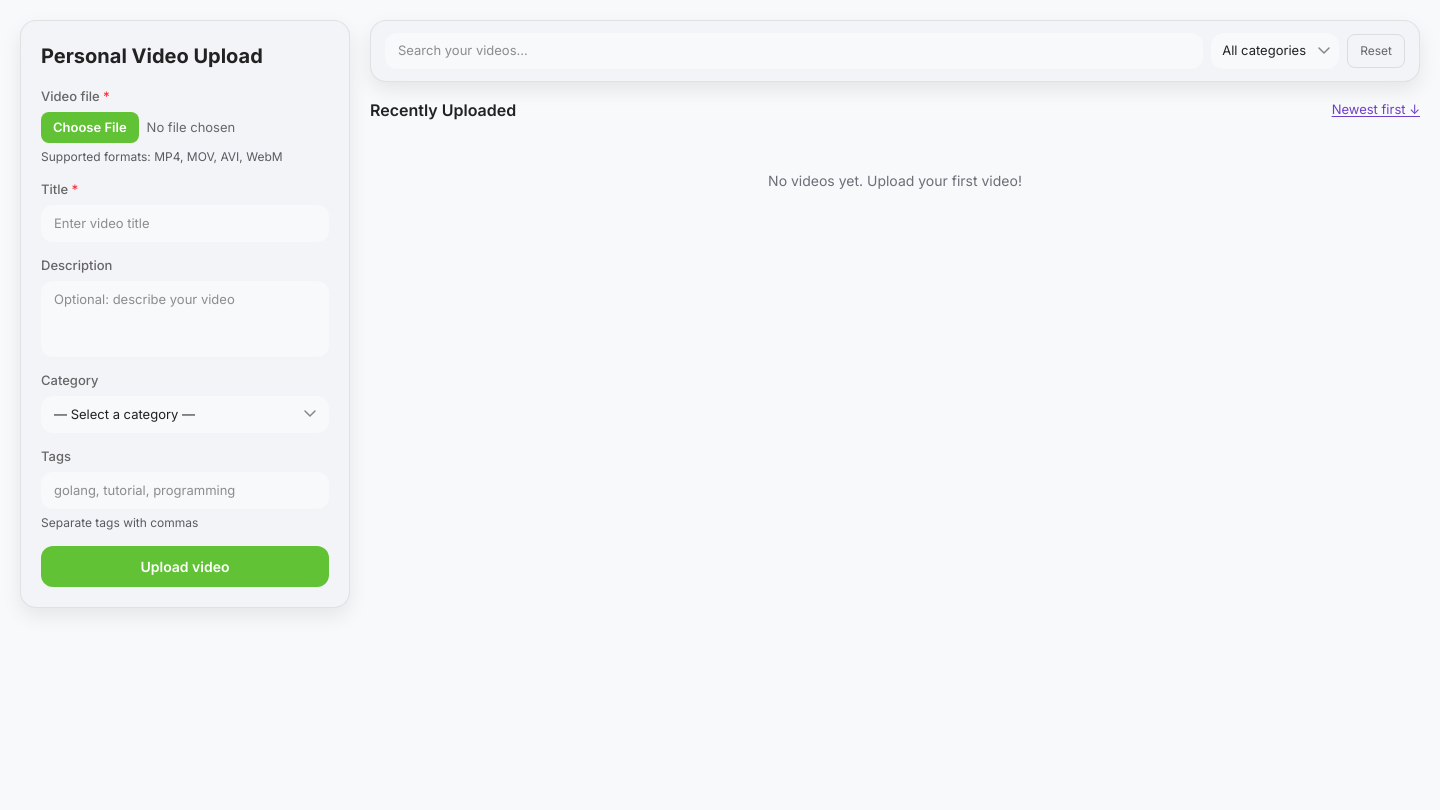
Test: UploadPage › toggles sort order between Newest first and Oldest first
The width and height of the screenshot is (1440, 810).
Click the button "Newest first ↓": (1376, 110) [1332,100,1420,119]
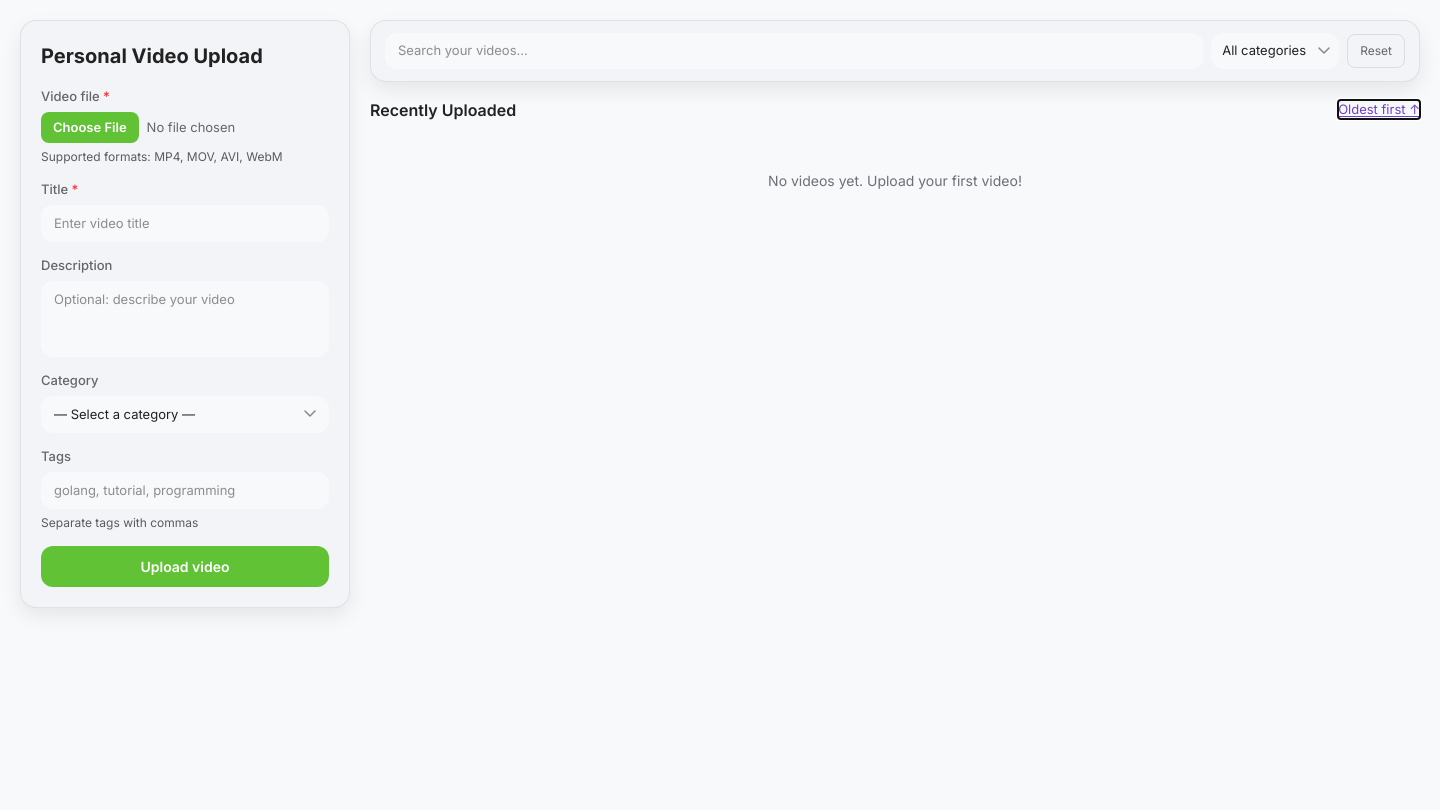
Expected: the button "Oldest first ↑" is shown
Click the button "Oldest first ↑": (1379, 110) [1338,100,1420,119]
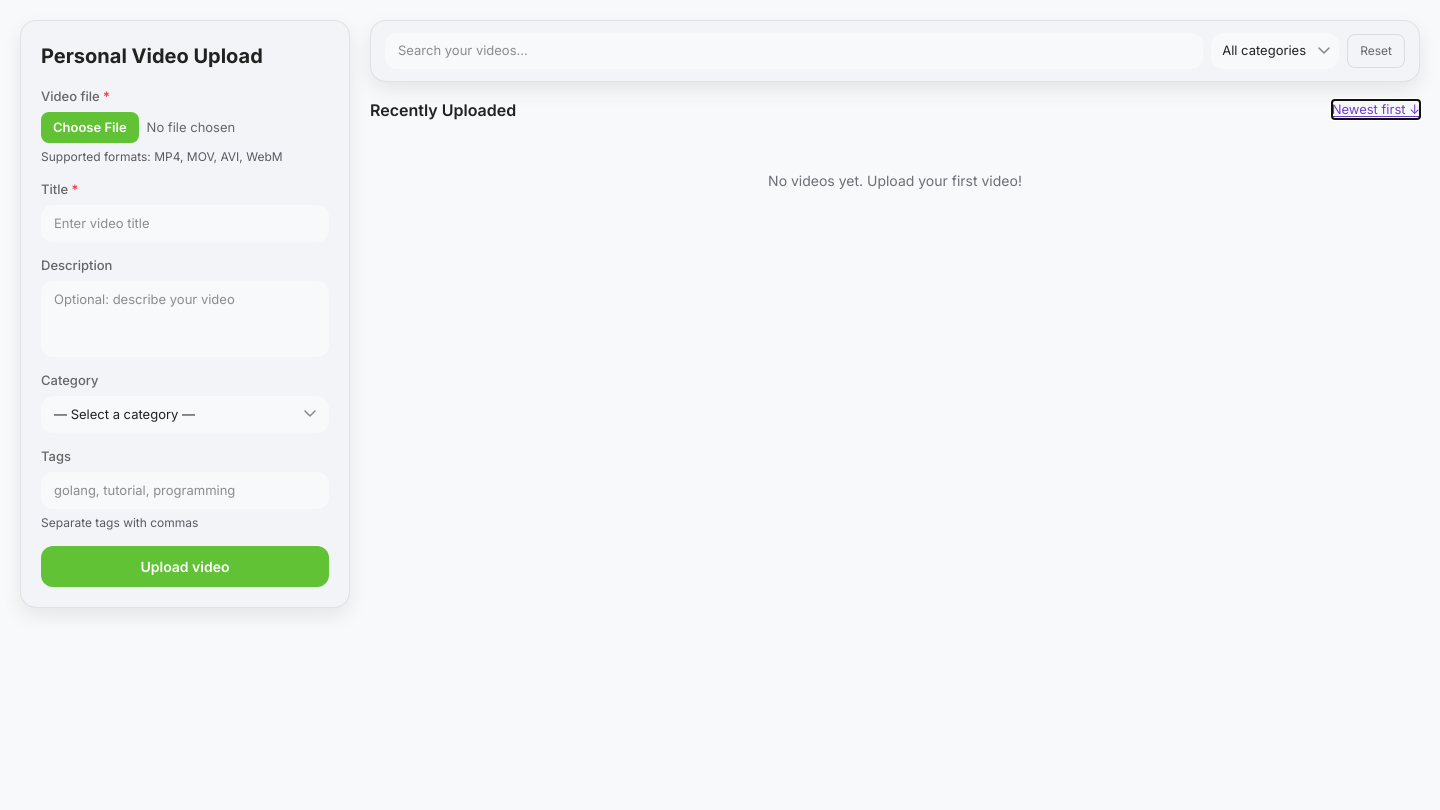
Expected: the button "Newest first ↓" is shown, [1332,100,1420,119]
